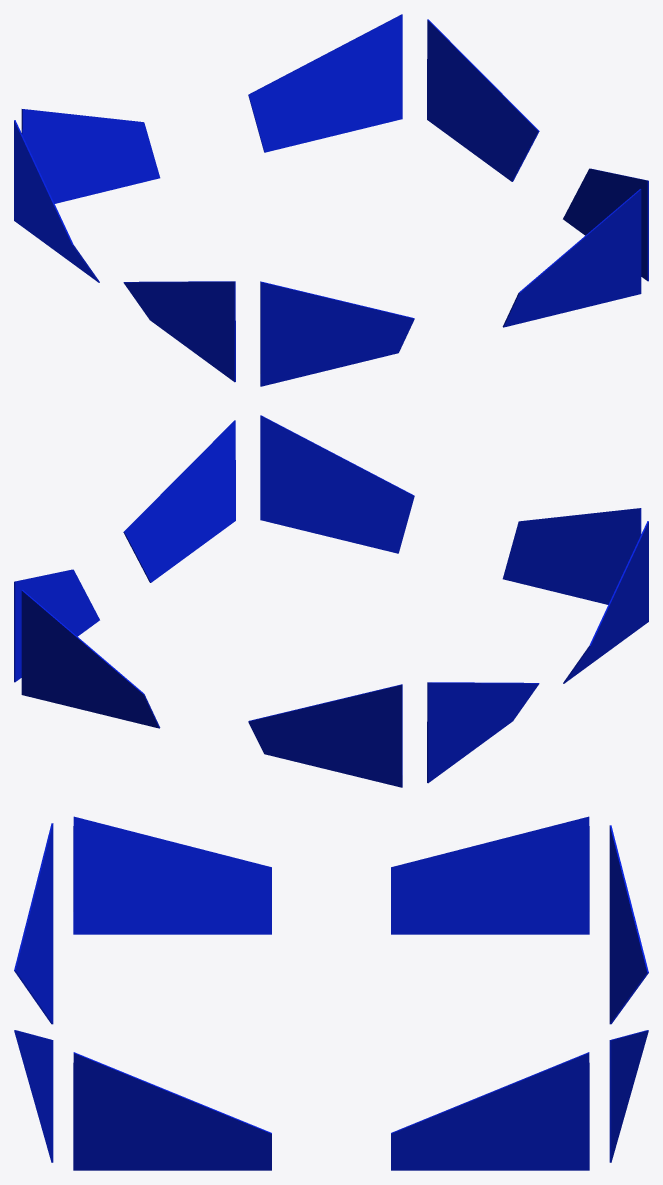
Rendered from StainedGlass.fbx.
3 renders of one model, top to bottom at view 1: azimuth 30°, elevation 25°; view 2: azimuth 150°, elevation 25°; view 3: azimuth 270°, elevation 25°, orthographic. The views are drawn at different scales.
Parts seen in each view (by area): view 1: Green; view 2: Green; view 3: Green.
Boxes of the visible parts, box(x1,y1,x2,y2) form: Green: box(14, 14, 648, 386); Green: box(14, 415, 648, 787); Green: box(14, 816, 648, 1170).
Size of the model in its own units: 7209 by 1547 by 7252.
